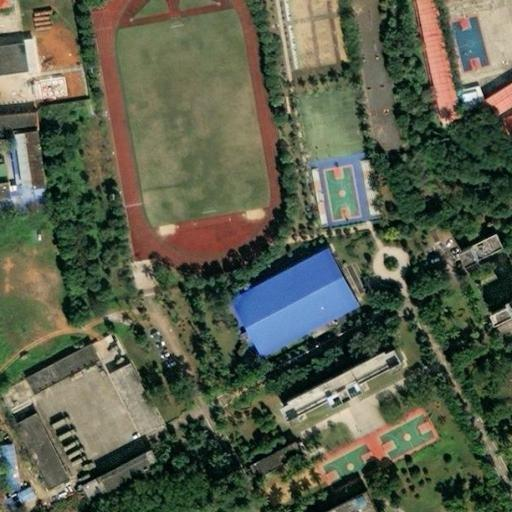building: (222, 248, 355, 358), (282, 353, 408, 431), (403, 0, 452, 123), (3, 417, 63, 495), (16, 343, 91, 397), (102, 365, 156, 438), (78, 453, 153, 505), (13, 135, 43, 195), (243, 443, 295, 477), (473, 79, 512, 116), (468, 235, 499, 261), (330, 495, 372, 512), (0, 48, 22, 76), (0, 489, 26, 509), (488, 306, 512, 327), (457, 248, 476, 268), (12, 194, 38, 208), (0, 445, 8, 486), (497, 113, 512, 134), (0, 188, 6, 205)
